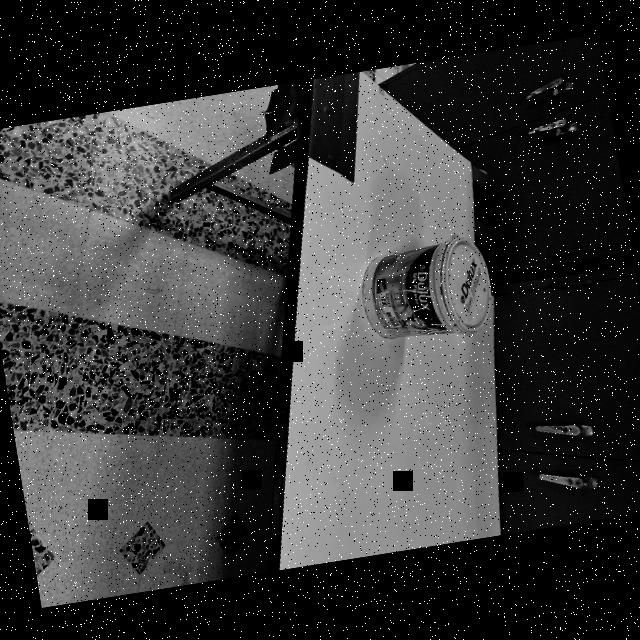paint_bucket: (346, 208, 502, 371)
